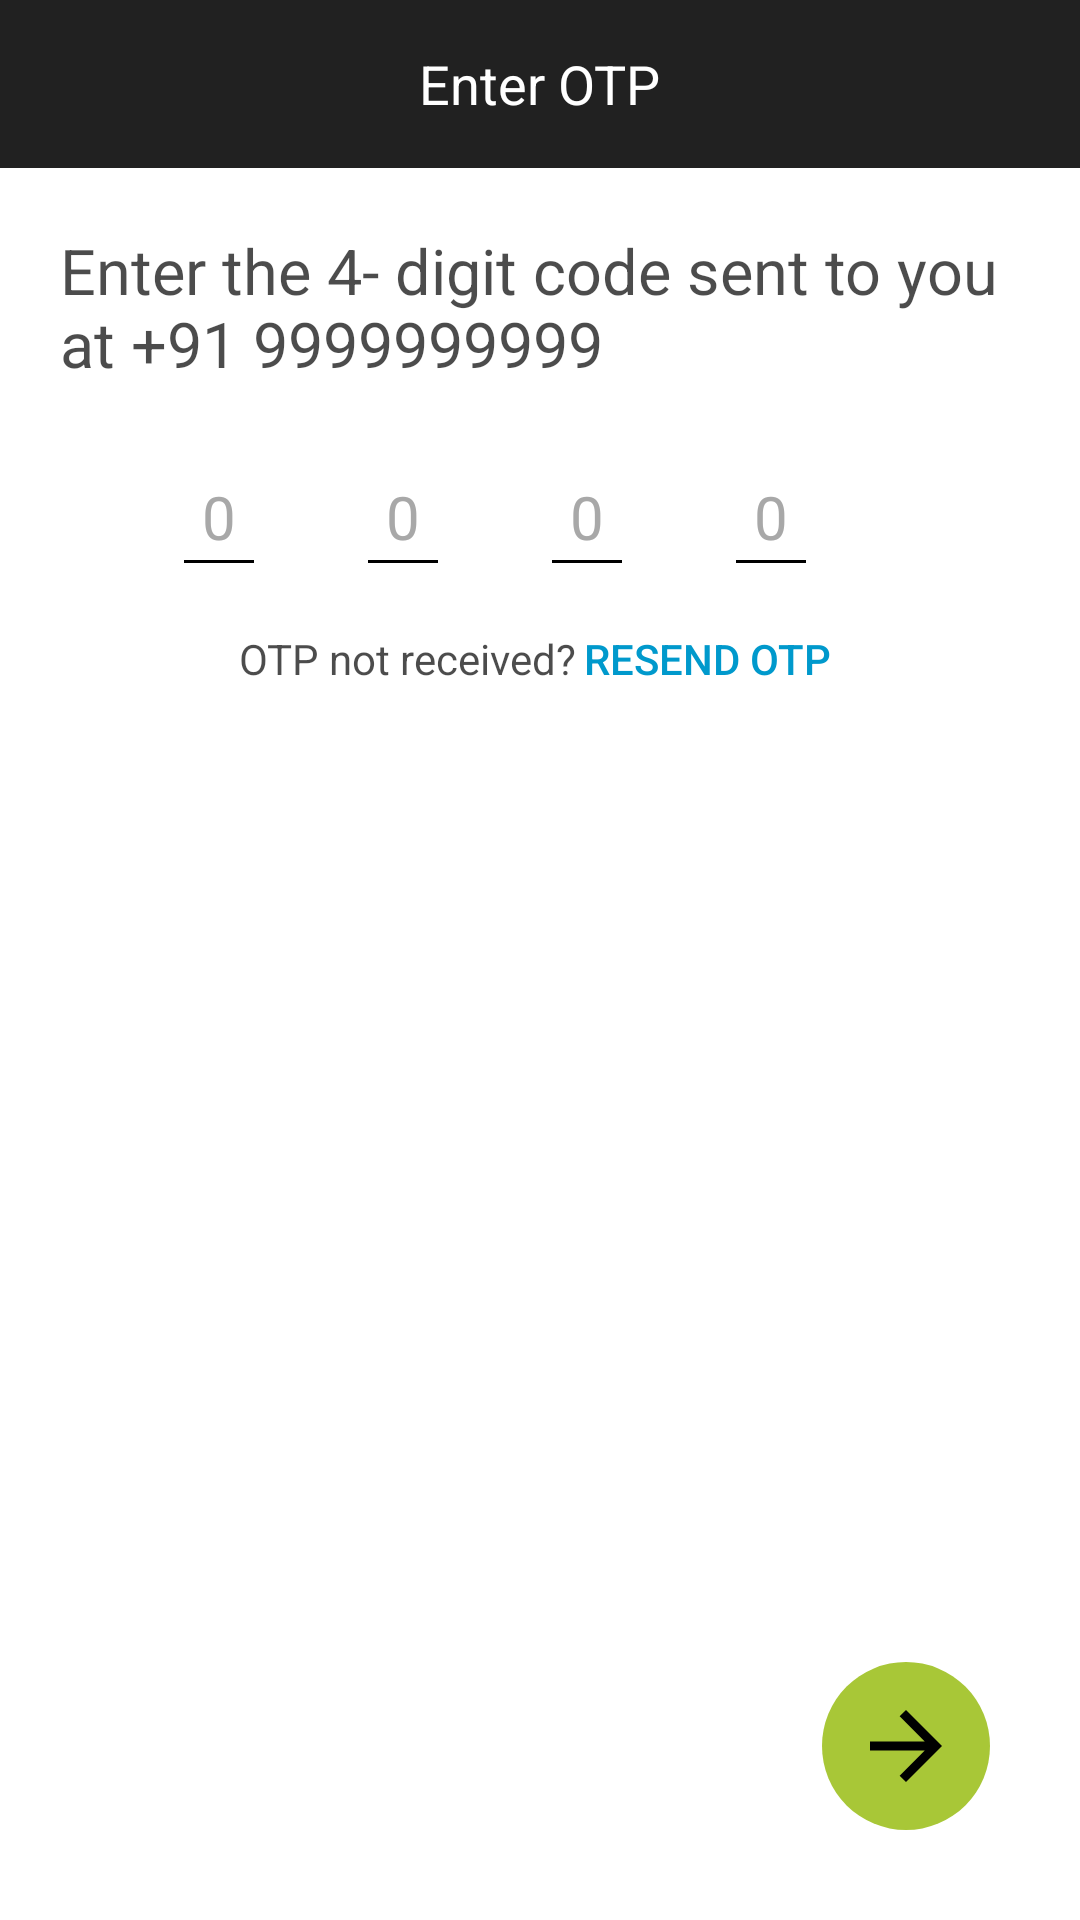

Where to tap for icons on this 1080w x 1920h app screen, as point (x, y):
circular arrow forward: point (906, 1746)
